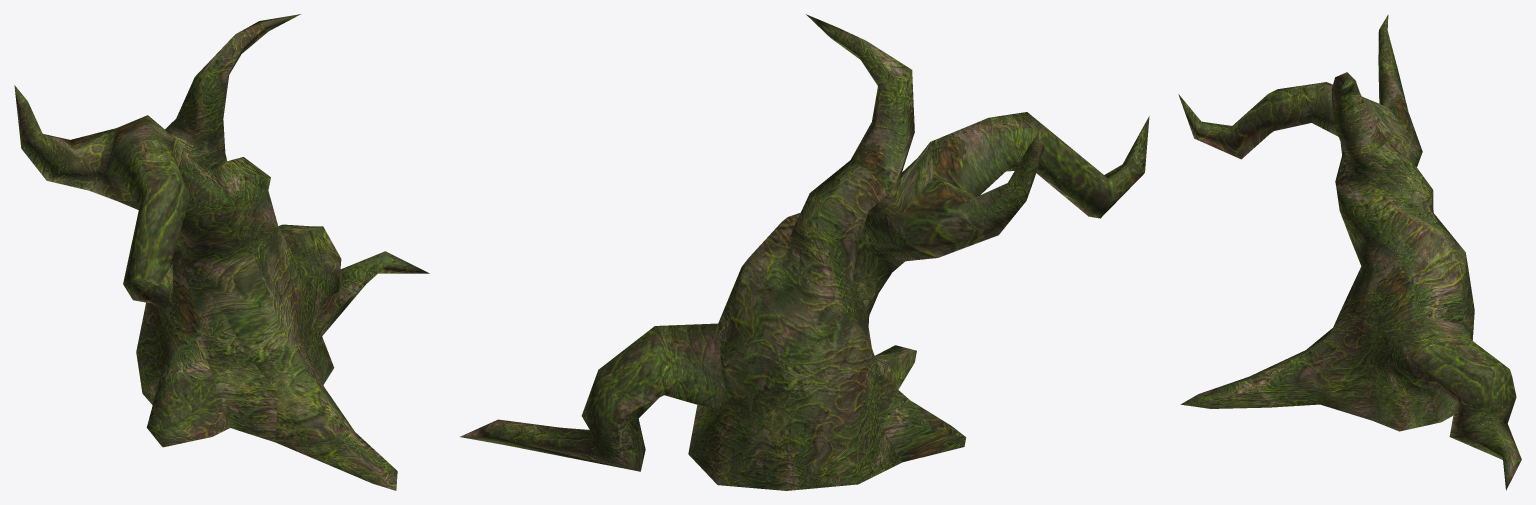
The model's file is environment_Tree_jianmushenshu_001_c.FBX.
3 views of the same model, side by side, from view 1: azimuth 30°, elevation 25°; view 2: azimuth 150°, elevation 25°; view 3: azimuth 270°, elevation 25° (orthographic). The views are drawn at different scales.
Visible parts, largest first — view 1: environment_Tree_jianmushenshu_001_c; view 2: environment_Tree_jianmushenshu_001_c; view 3: environment_Tree_jianmushenshu_001_c.
Boxes of the visible parts, x1,y1,x2,y2 form: environment_Tree_jianmushenshu_001_c: (14, 14, 429, 490); environment_Tree_jianmushenshu_001_c: (460, 14, 1149, 490); environment_Tree_jianmushenshu_001_c: (1178, 14, 1521, 490).
Size of the model in its own units: 821 by 629 by 644.
Materials: 1 (1 with a texture image).
